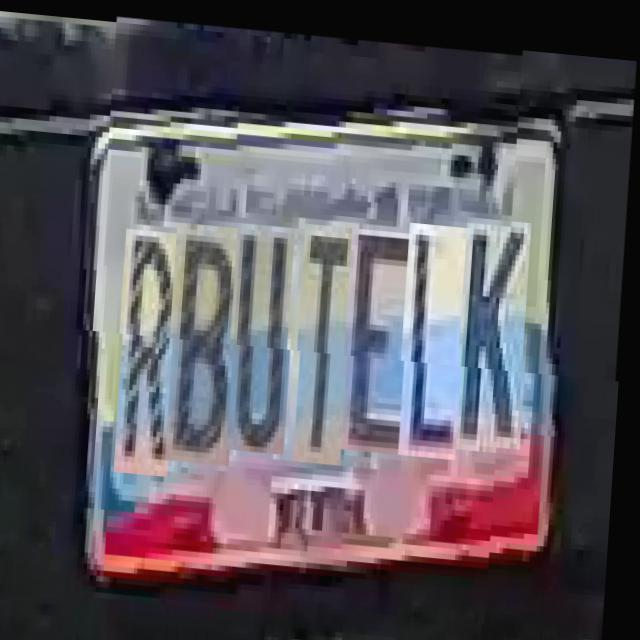B: (171, 219, 247, 461)
E: (348, 216, 422, 447)
K: (462, 213, 537, 444)
L: (404, 214, 473, 450)
R: (120, 226, 186, 473)
T: (299, 217, 358, 458)
U: (232, 218, 301, 448)
